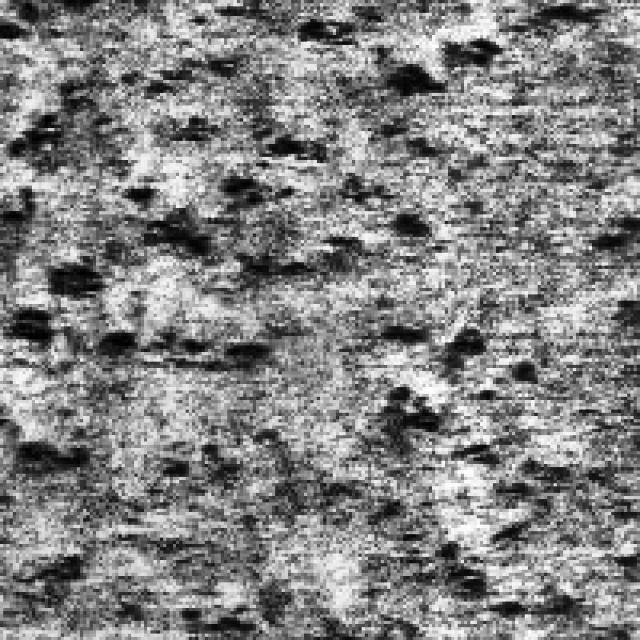Crazing: (0, 93, 355, 384), (291, 0, 595, 243), (365, 300, 573, 628)
